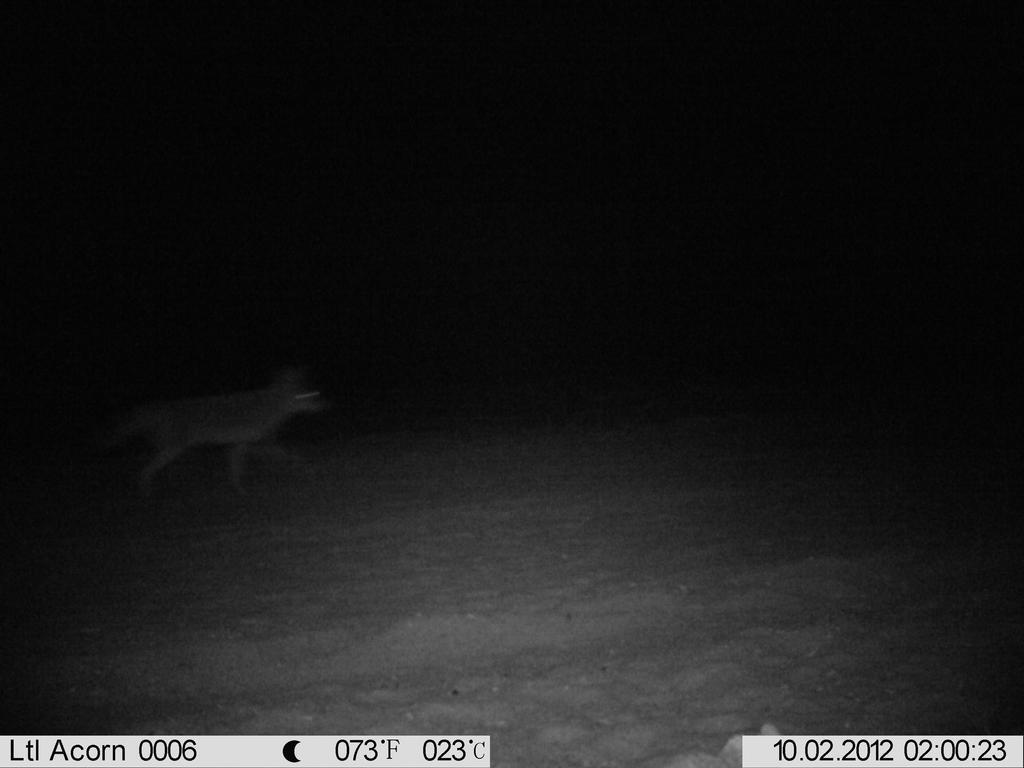coyote: (89, 350, 343, 520)
